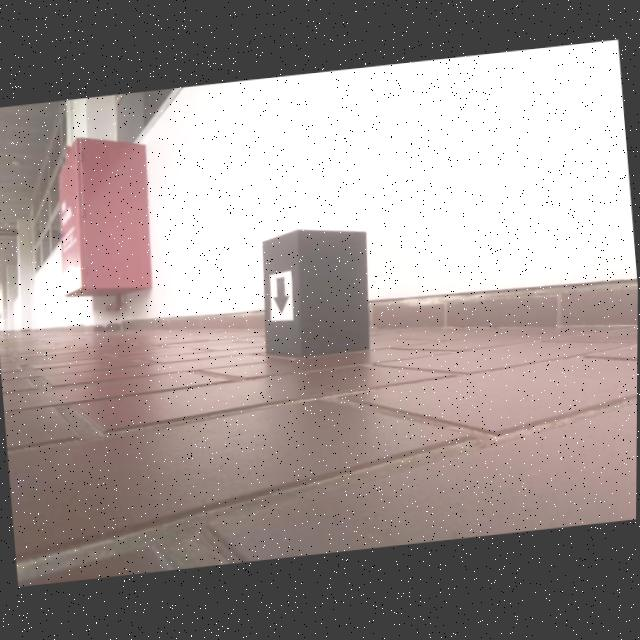DOWN: (272, 277, 291, 316)
